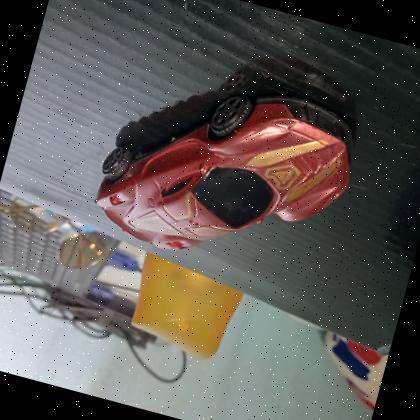Car: (77, 45, 374, 298)
